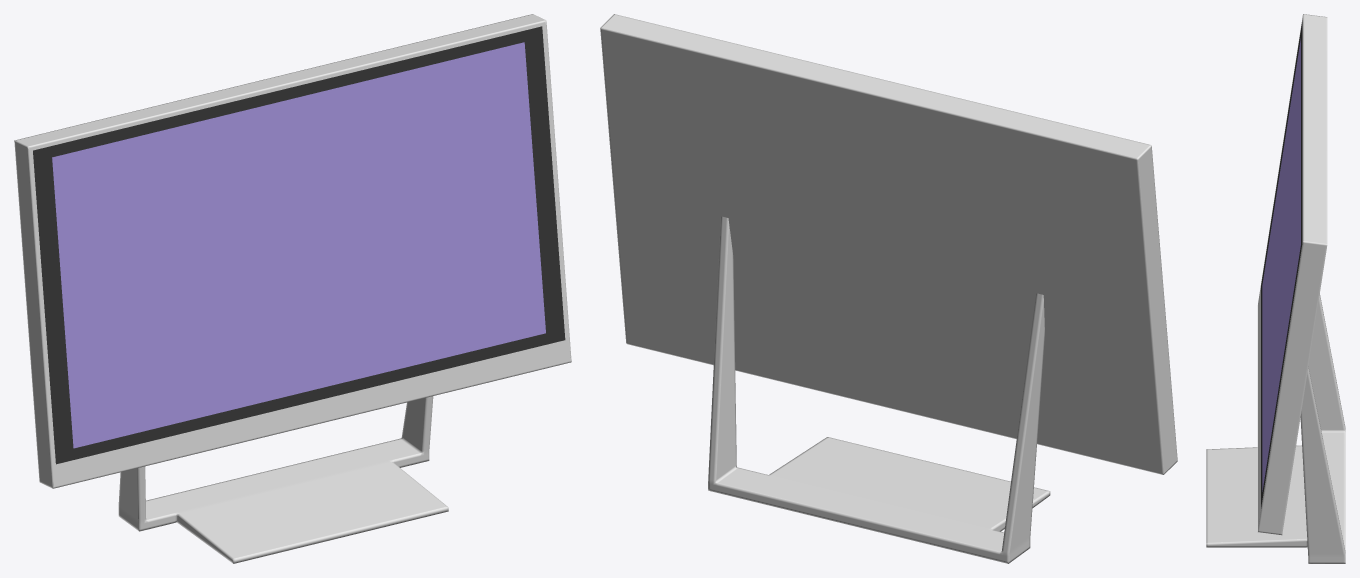
The model's file is Monitor1.fbx.
The picture shows the model from 3 angles, left to right: view 1: azimuth 30°, elevation 25°; view 2: azimuth 150°, elevation 25°; view 3: azimuth 270°, elevation 25°; orthographic projection. The views are drawn at different scales.
Visible parts, largest first — view 1: Cube, Cube.001; view 2: Cube, Cube.001; view 3: Cube, Cube.001.
Boxes of the visible parts, x1=… form: Cube: x1=14, y1=14, x2=571, y2=488; Cube.001: x1=118, y1=396, x2=448, y2=563; Cube: x1=600, y1=14, x2=1177, y2=474; Cube.001: x1=708, y1=216, x2=1050, y2=563; Cube: x1=1257, y1=14, x2=1327, y2=535; Cube.001: x1=1206, y1=294, x2=1345, y2=563.
Size of the model in its own units: 772 by 590 by 200.
